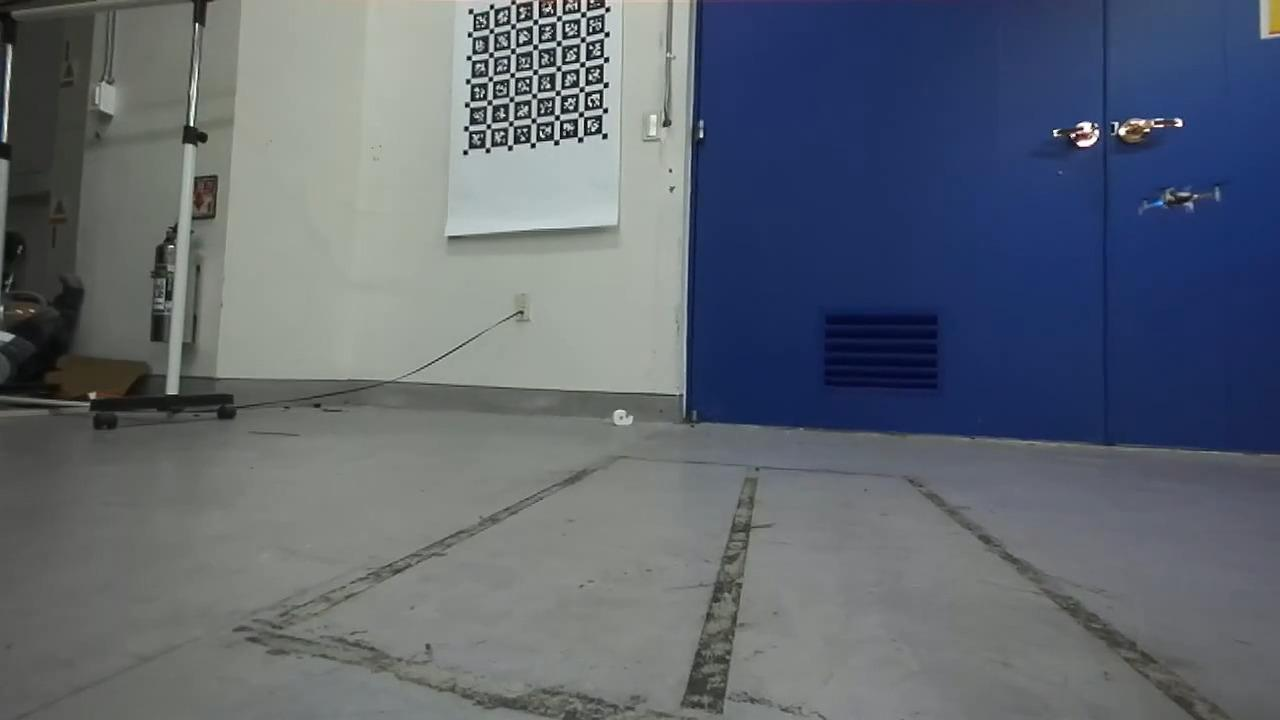crazyflie: (1133, 180, 1224, 219)
